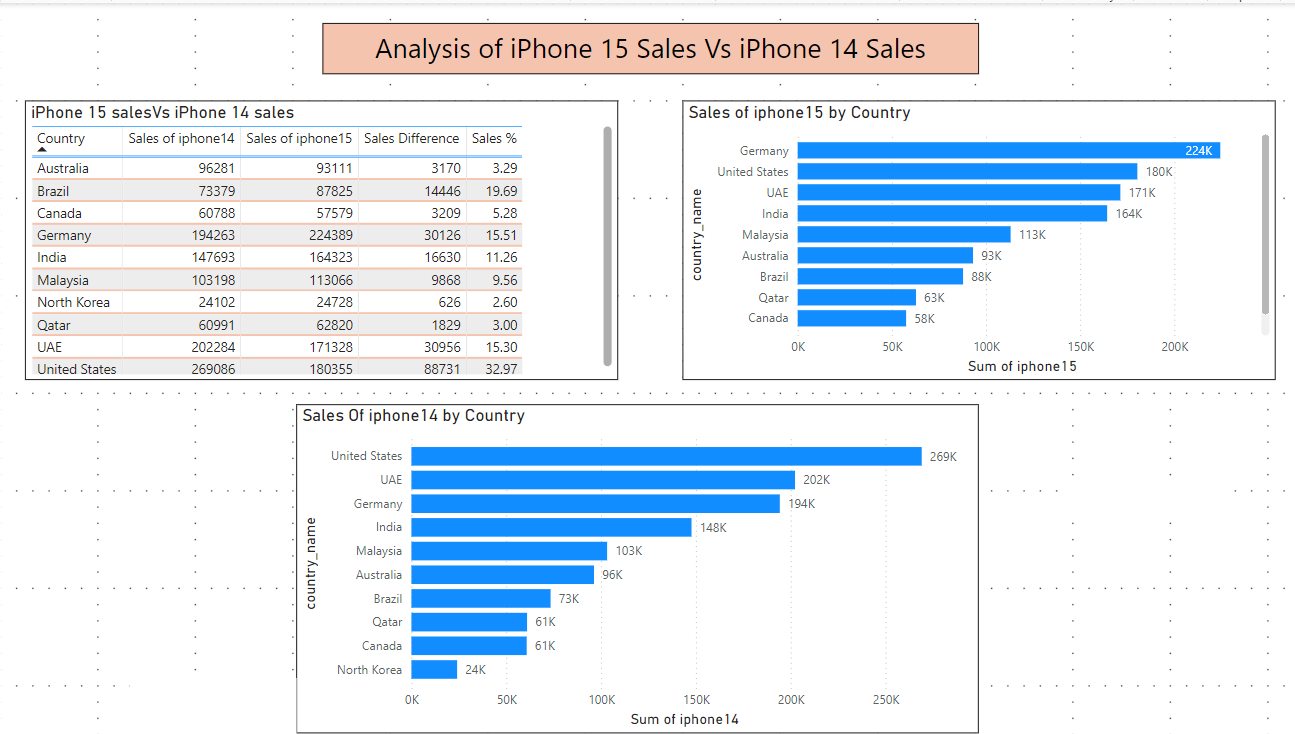

The dashboard page shown, as its layout file describes it:
{"tool":"powerbi","page":{"name":"Sales iPhone14 and iPhone15","canvas":[1280,720],"ordinal":0},"visuals":[{"type":"tableEx","title":" iPhone 15 salesVs iPhone 14 sales","fields":{"Values":["dim_stores.country_name","Sum(fact_sales_Iphone14.iphone14)","Sum(fact_sales_Iphone15.iphone15)","fact_sales_Iphone15.Sales Difference","fact_sales_Iphone15.Sales Per"]},"box":[25,96,584.3,275.5],"z":0},{"type":"barChart","title":"Sales of iphone15 by Country","fields":{"Category":["dim_stores.country_name"],"Y":["Sum(fact_sales_Iphone15.iphone15)"]},"box":[672,96,584.3,275.5],"z":1000},{"type":"barChart","title":"Sales Of iphone14 by Country","fields":{"Category":["dim_stores.country_name"],"Y":["Sum(fact_sales_Iphone14.iphone14)"]},"box":[292.2,395.1,672,324.2],"z":2000},{"type":"textbox","box":[128,665,164.2,55.7],"z":3000},{"type":"textbox","box":[1050.4,468.9,160,40.3],"z":4000},{"type":"textbox","box":[317.5,19.7,646.2,50.5],"z":5001}]}

Visuals, with their boxes in screenshot pixels (x1, y1, x2, y2), scaled from the page's 1280x720 canvas onto the 1295x734 screenshot:
" iPhone 15 salesVs iPhone 14 sales" tableEx: {"left": 25, "top": 98, "right": 616, "bottom": 379}
"Sales of iphone15 by Country" barChart: {"left": 680, "top": 98, "right": 1271, "bottom": 379}
"Sales Of iphone14 by Country" barChart: {"left": 296, "top": 403, "right": 975, "bottom": 733}
textbox: {"left": 130, "top": 678, "right": 296, "bottom": 733}
textbox: {"left": 1063, "top": 478, "right": 1225, "bottom": 519}
textbox: {"left": 321, "top": 20, "right": 975, "bottom": 72}
